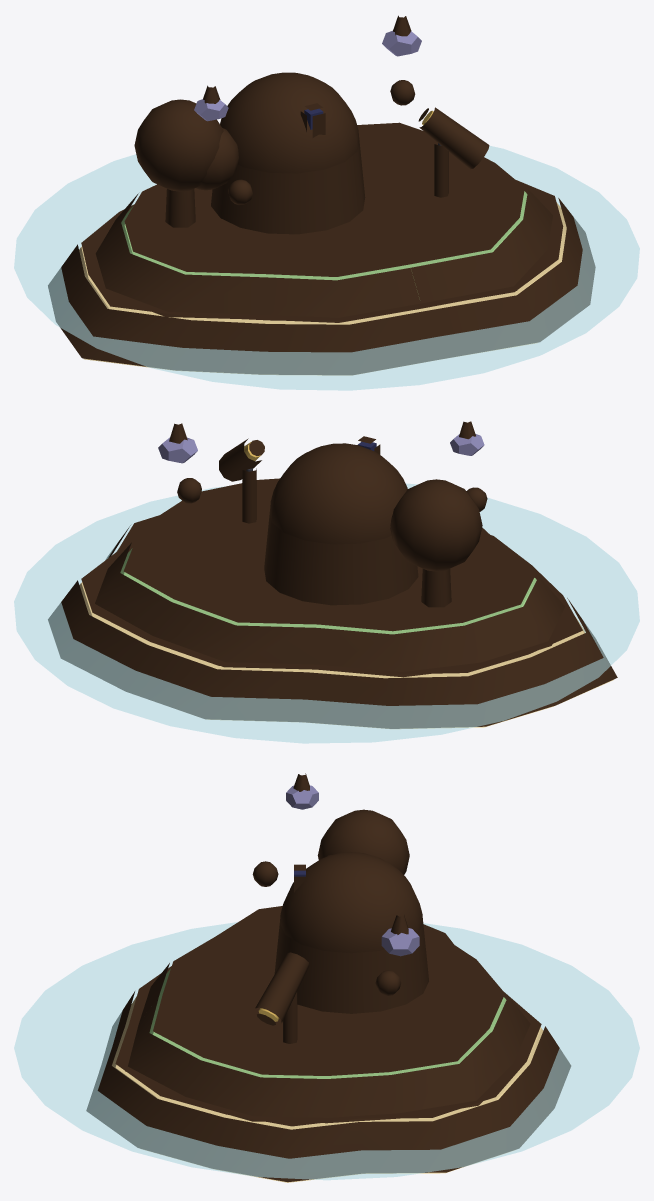
File: island-observatory.glb
3 views of the same model, one above another, from view 1: azimuth 30°, elevation 25°; view 2: azimuth 150°, elevation 25°; view 3: azimuth 270°, elevation 25° (orthographic).
Parts seen in each view (by area): view 1: outline (×9), Group (×3); view 2: outline (×9), Group (×3); view 3: outline (×7), Group (×3).
Boxes of the visible parts, left/top/right/bottom form: outline (×9): left=48, top=72, right=595, bottom=375; Group (×3): left=14, top=30, right=639, bottom=390; outline (×9): left=48, top=438, right=617, bottom=728; Group (×3): left=14, top=434, right=639, bottom=743; outline (×7): left=86, top=809, right=570, bottom=1182; Group (×3): left=14, top=785, right=639, bottom=1182.
Bounding box in the file's own units: 5.1 × 2.12 × 5.1.
